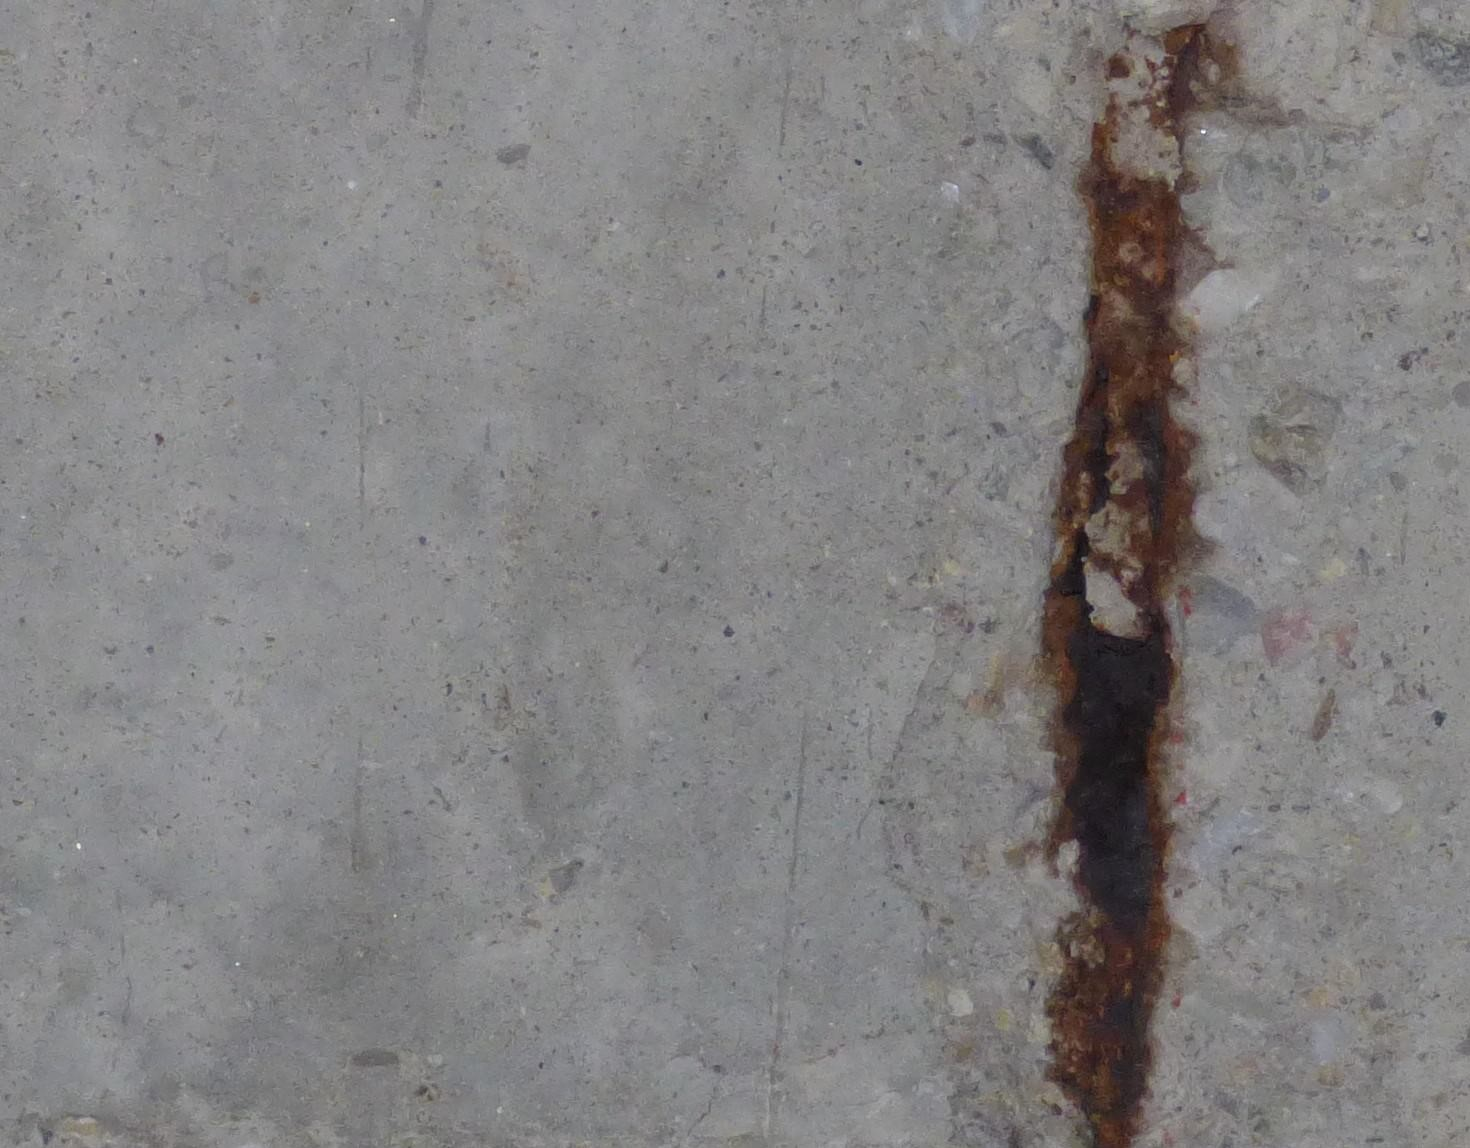Exposed reinforcement: (1040, 1, 1188, 1148)
